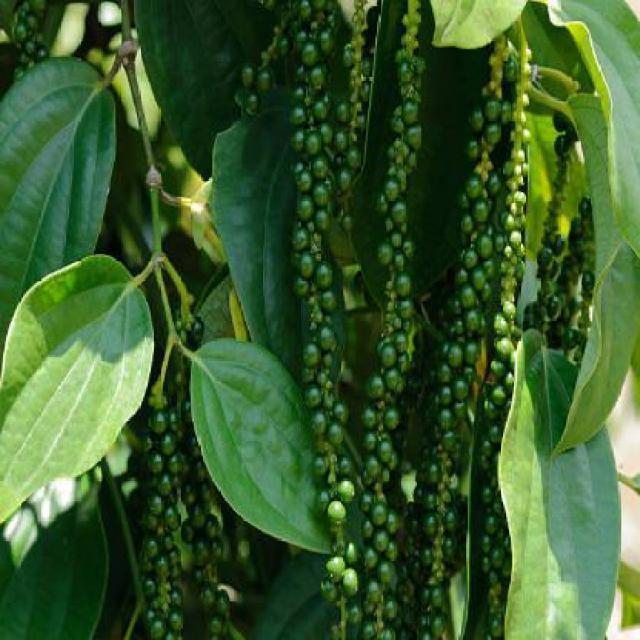UNRIPE: (240, 1, 372, 634), (425, 39, 529, 633), (362, 6, 426, 634), (140, 316, 229, 639), (532, 104, 593, 353), (9, 0, 45, 71)
